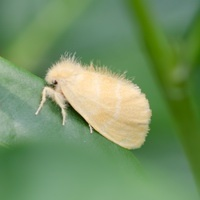insect: (45, 53, 150, 148)
